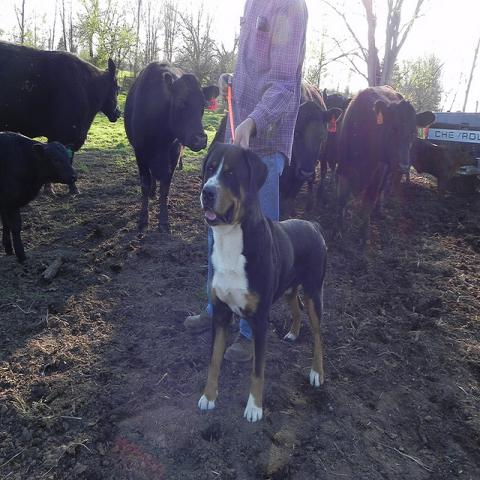truck: (424, 104, 479, 199)
